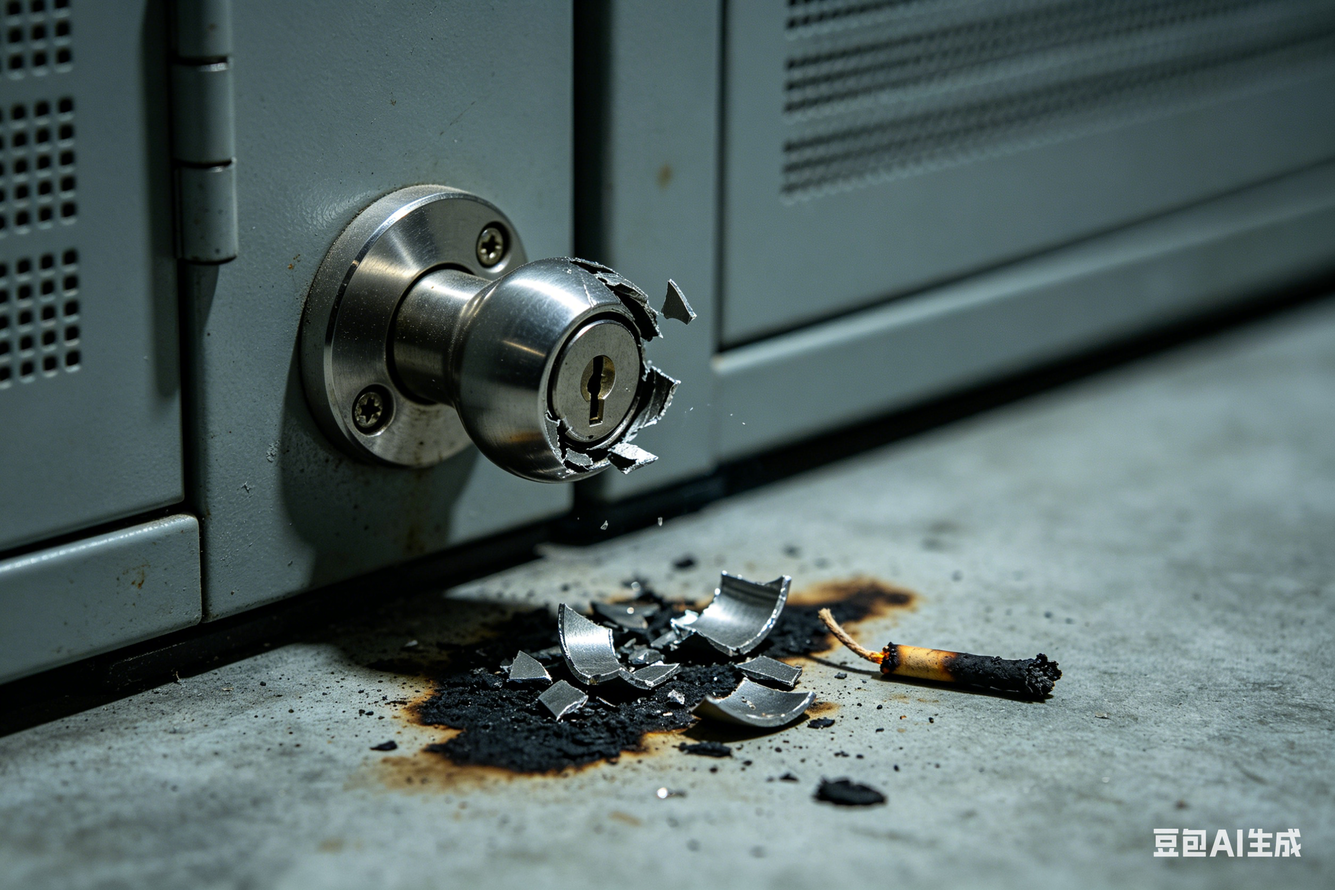BadLock: (530, 278, 698, 486)
